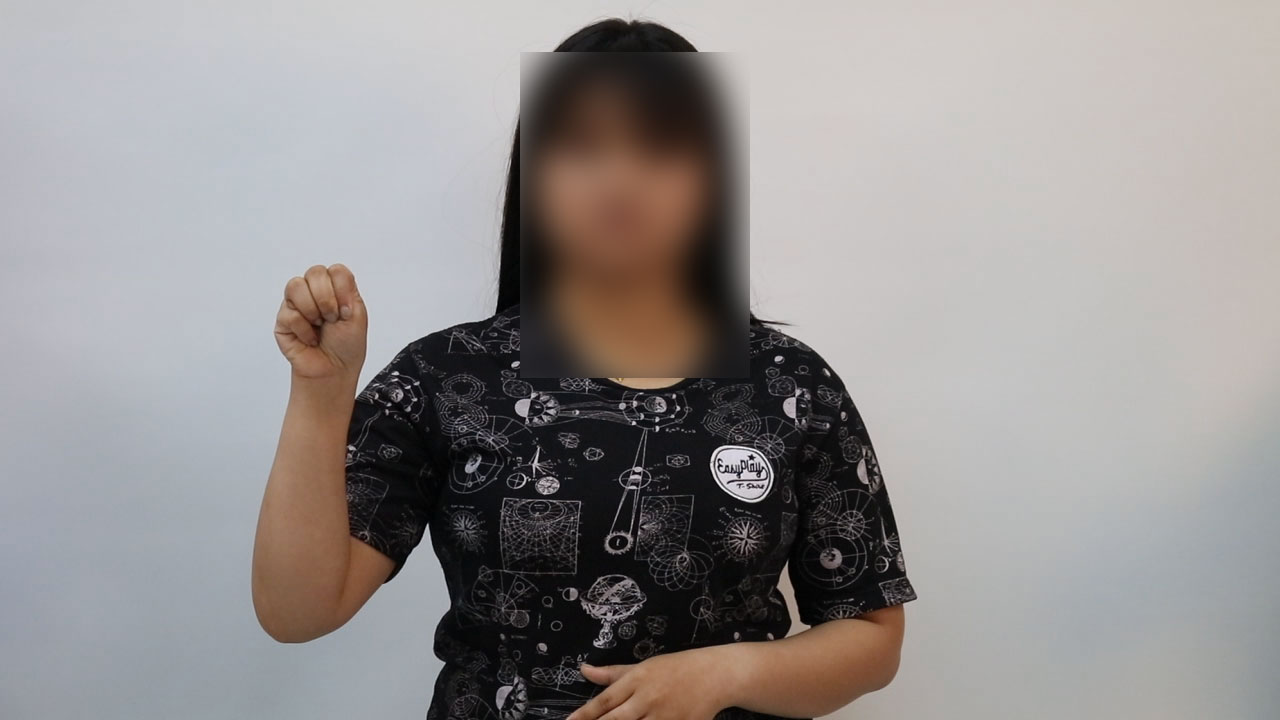mor: (262, 250, 379, 399)
